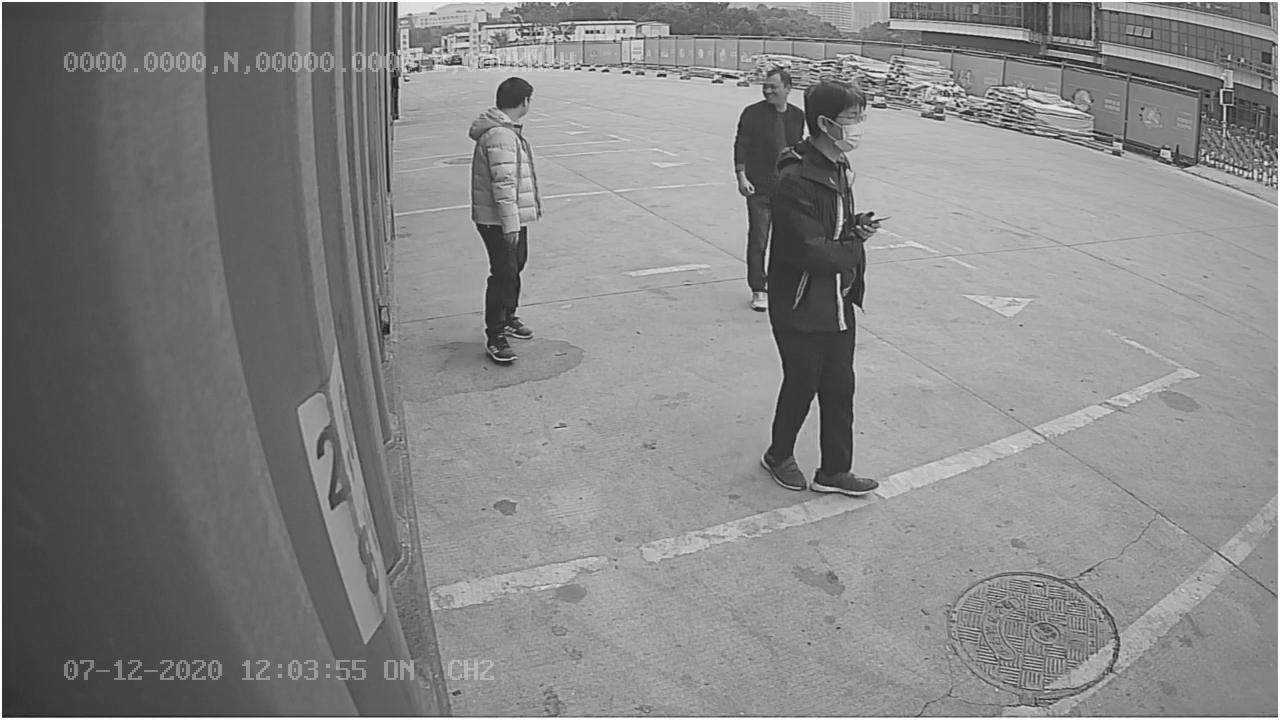person: (458, 73, 554, 365)
